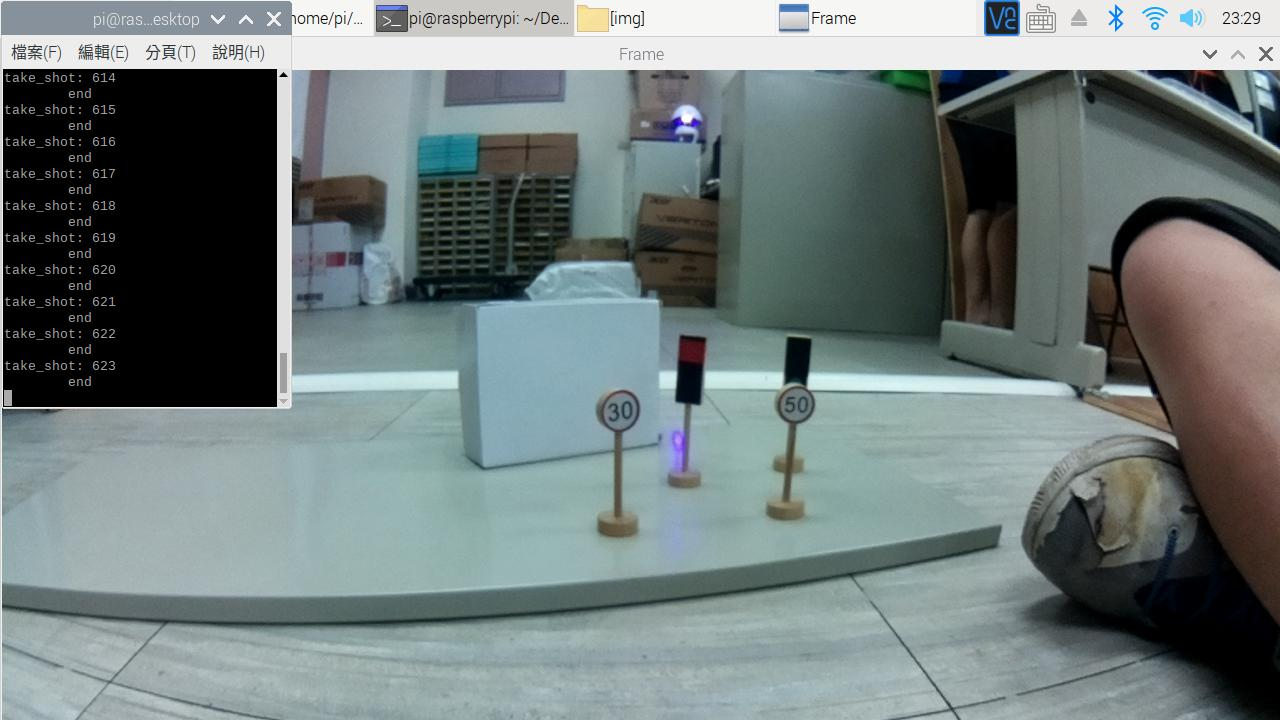Red: (664, 329, 707, 413)
Speed30: (592, 379, 648, 439)
Speed50: (763, 385, 818, 431)
